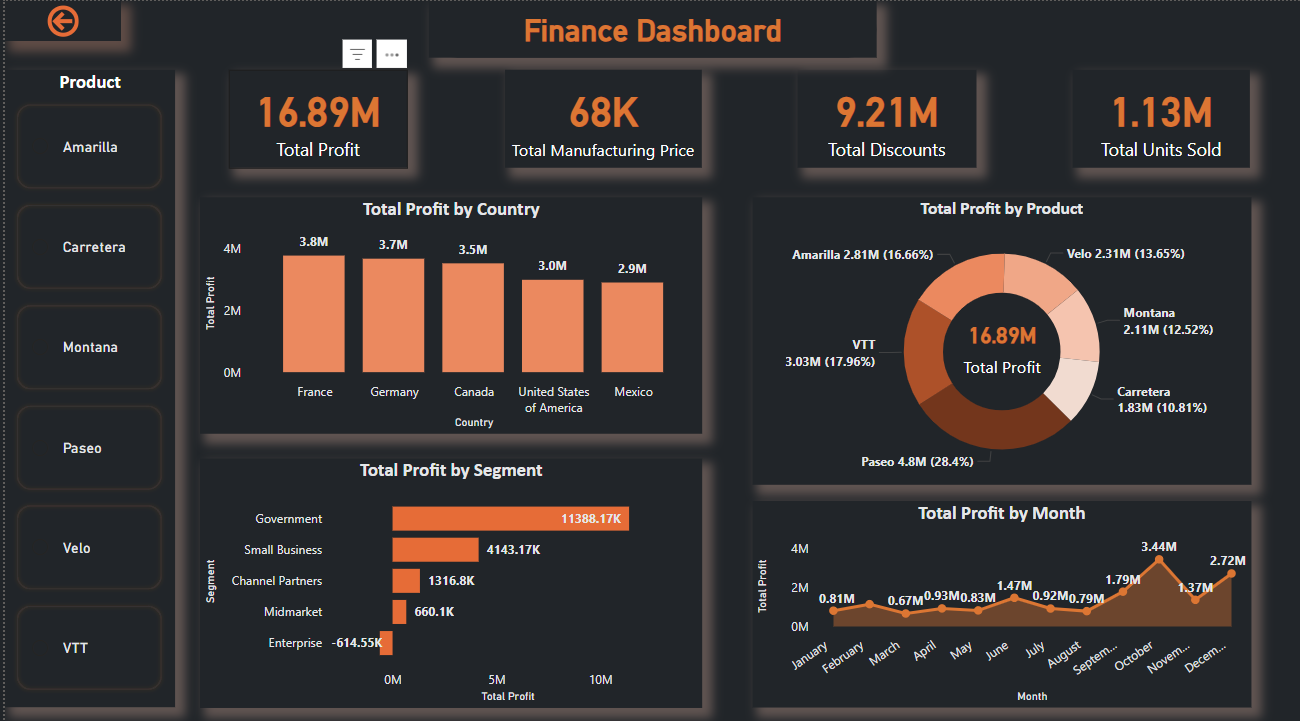

This screenshot's page, from the dashboard's own definition file:
{"tool":"powerbi","page":{"name":"Finance Dashboard2","canvas":[1280,720],"ordinal":1},"visuals":[{"type":"card","fields":{"Values":["Sum(financials.Discounts)"]},"box":[782.9,68.4,176.6,97],"z":0},{"type":"columnChart","fields":{"Y":["Sum(financials.Profit)"],"Category":["financials.Country"]},"box":[192.5,193.8,496.2,233.8],"z":1000},{"type":"barChart","fields":{"Y":["Sum(financials.Profit)"],"Category":["financials.Segment"]},"box":[192.8,451.6,496.3,246.3],"z":2000},{"type":"shape","box":[418.8,0,442.5,56.2],"z":3000},{"type":"card","fields":{"Values":["Sum(financials.Manufacturing Price)"]},"box":[493.4,68.4,194.1,97],"z":4000},{"type":"donutChart","fields":{"Y":["Sum(financials.Profit)"],"Category":["financials.Product"]},"box":[737.7,194.1,492.6,283.6],"z":5000},{"type":"advancedSlicerVisual","fields":{"Values":["financials.Product"]},"box":[0,68.4,167.9,629.4],"z":6000},{"type":"actionButton","box":[0,0,114.4,39.8],"z":7000},{"type":"card","fields":{"Values":["Sum(financials.Units Sold)"]},"box":[1054.9,68.4,175.4,97],"z":8000},{"type":"card","fields":{"Values":["Sum(financials.Profit)"]},"box":[221.4,68.4,176.6,97],"z":9000},{"type":"card","fields":{"Values":["Sum(financials.Profit)"]},"box":[924.3,289.8,120.7,102],"z":10000},{"type":"stackedAreaChart","fields":{"Y":["Sum(financials.Profit)"],"Category":["financials.Date.Variation.Date Hierarchy.Month"]},"box":[737.7,493.9,492.6,204],"z":11000}]}

Visuals, with their boxes in screenshot pixels (x1, y1, x2, y2), scaled from the page's 1280x720 canvas onto the 1300x721 screenshot:
card - Sum(financials.Discounts): bbox(795, 68, 974, 166)
columnChart - Sum(financials.Profit) x financials.Country: bbox(196, 194, 699, 428)
barChart - Sum(financials.Profit) x financials.Segment: bbox(196, 452, 700, 699)
shape: bbox(425, 0, 875, 56)
card - Sum(financials.Manufacturing Price): bbox(501, 68, 698, 166)
donutChart - Sum(financials.Profit) x financials.Product: bbox(749, 194, 1250, 478)
advancedSlicerVisual - financials.Product: bbox(0, 68, 171, 699)
actionButton: bbox(0, 0, 116, 40)
card - Sum(financials.Units Sold): bbox(1071, 68, 1250, 166)
card - Sum(financials.Profit): bbox(225, 68, 404, 166)
card - Sum(financials.Profit): bbox(939, 290, 1061, 392)
stackedAreaChart - Sum(financials.Profit) x financials.Date.Variation.Date Hierarchy.Month: bbox(749, 495, 1250, 699)
